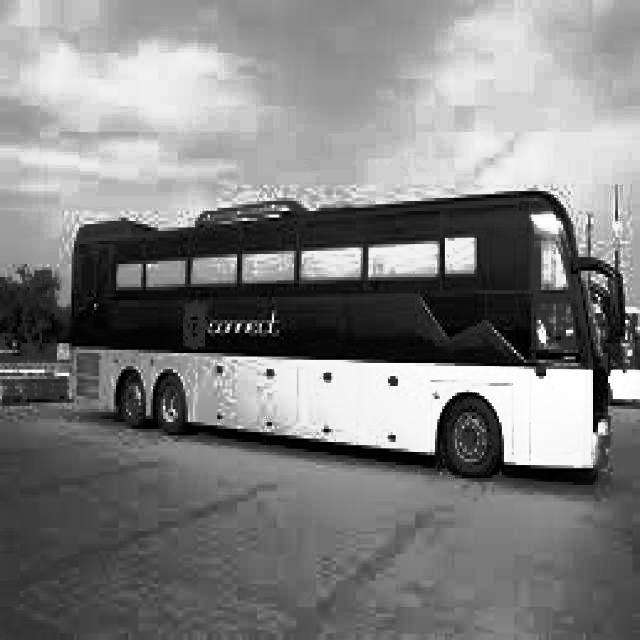Bus: (47, 174, 636, 508)
